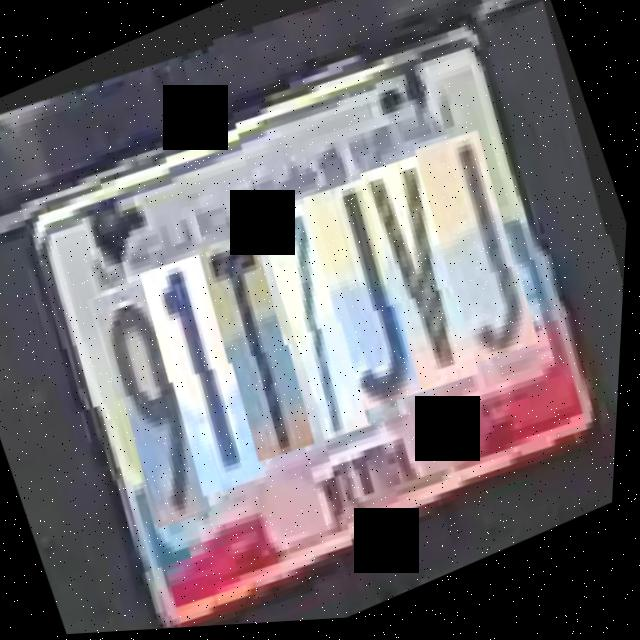1: (128, 240, 295, 502)
7: (249, 194, 400, 449)
9: (81, 271, 242, 534)
J: (294, 168, 456, 418), (402, 120, 564, 370)
T: (185, 218, 342, 466)
V: (347, 146, 506, 400)
